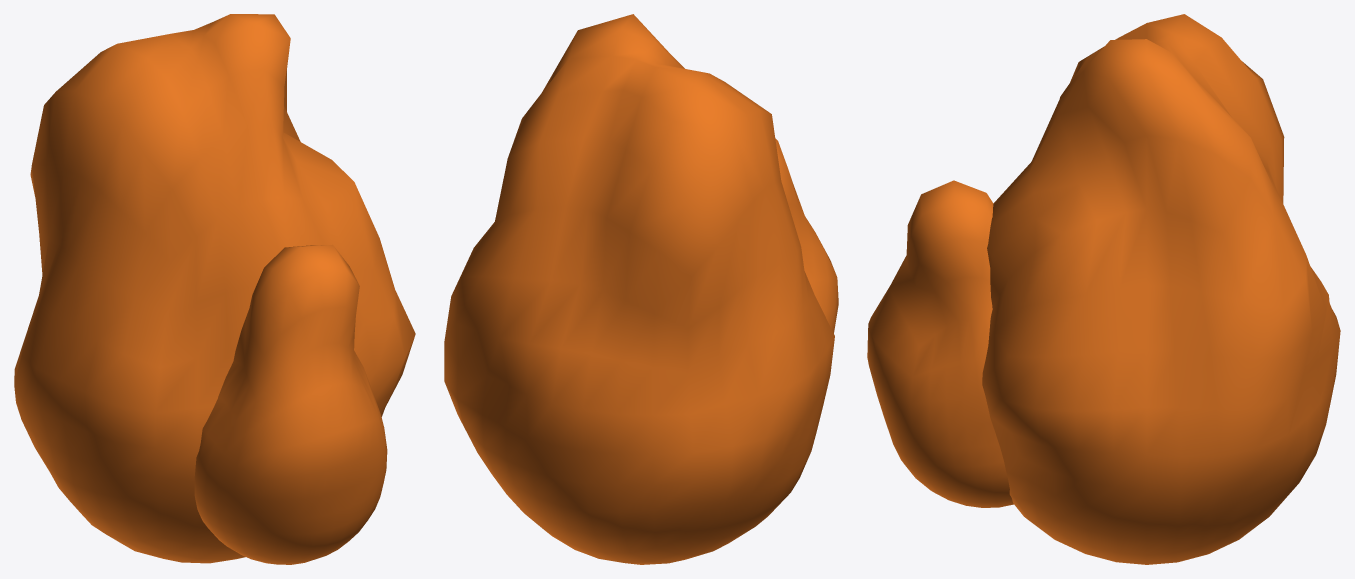
Rendered from fire_final.fbx.
3 views of the same model, side by side, from view 1: azimuth 30°, elevation 25°; view 2: azimuth 150°, elevation 25°; view 3: azimuth 270°, elevation 25° (orthographic). The views are drawn at different scales.
Parts seen in each view (by area): view 1: Roundcube; view 2: Roundcube; view 3: Roundcube.
Boxes of the visible parts, x1,y1,x2,y2 form: Roundcube: (14, 14, 415, 564); Roundcube: (444, 14, 838, 564); Roundcube: (867, 14, 1340, 564).
Bounding box in the file's own units: 212 × 317 × 260.
